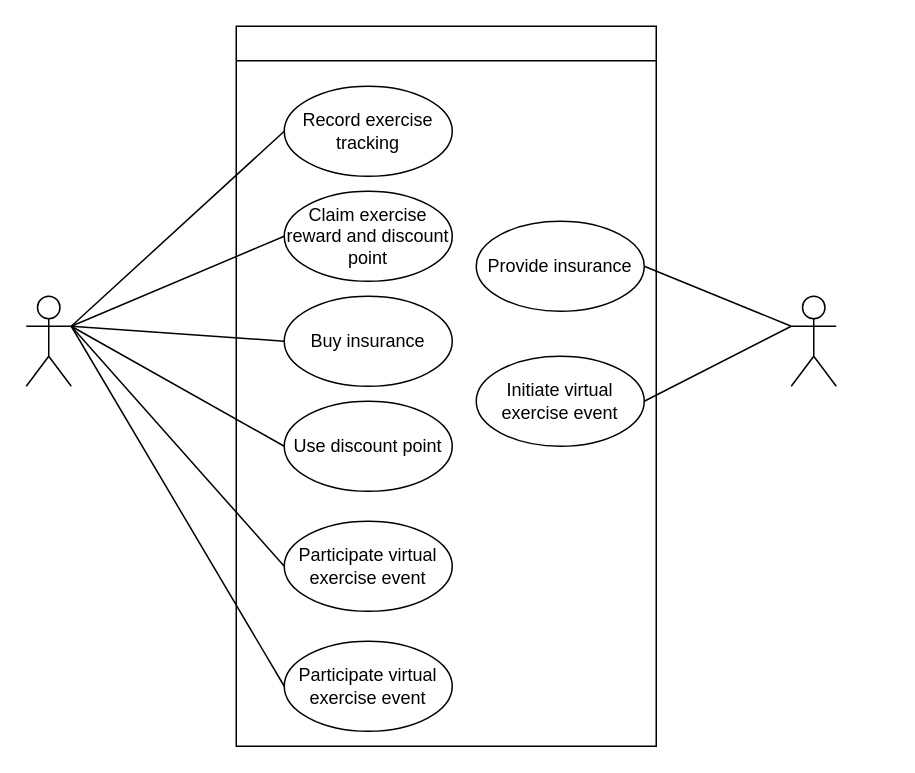
Some shapes in this 915 by 773 pixel diagram are drawn without their labels. The shapes that lost their labels are listed below. From the top down, each one's box as (x1, y1, x2, y2) in pixels, then its label:
(25, 295, 71, 386): User
(790, 295, 836, 386): Insurance Provider
(235, 25, 656, 746): Fit-and-Rich
